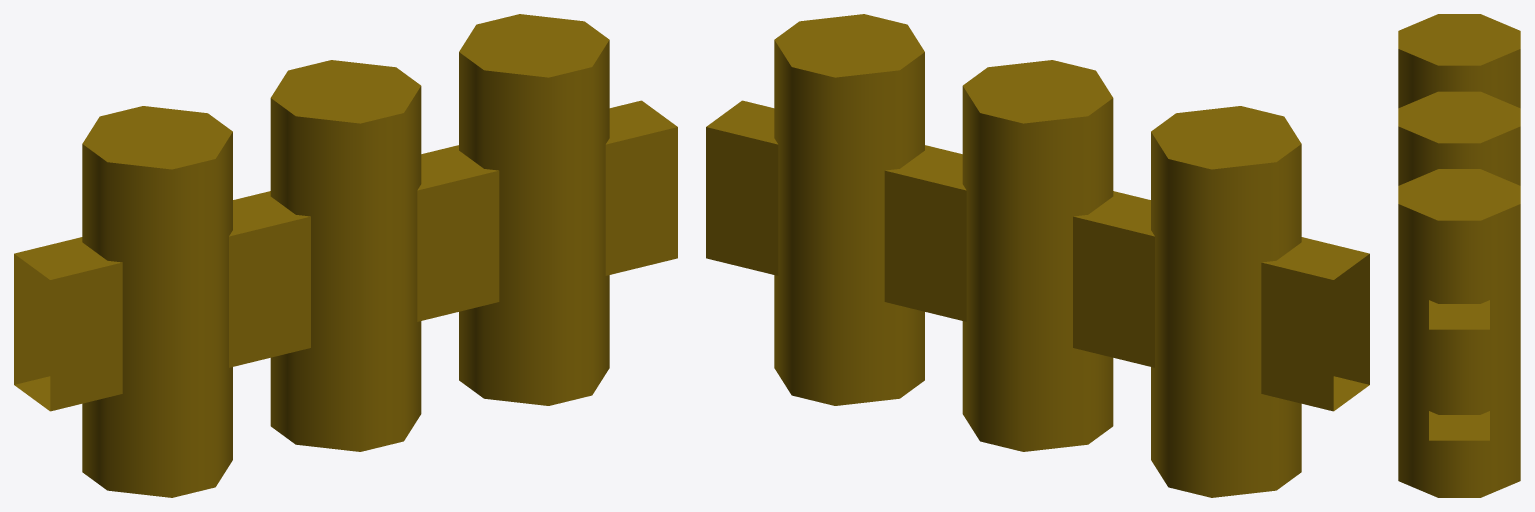
Rendered from pole_fence_01_bar.glb.
3 renders of one model, left to right at view 1: azimuth 30°, elevation 25°; view 2: azimuth 150°, elevation 25°; view 3: azimuth 270°, elevation 25°, orthographic. The views are drawn at different scales.
Visible parts, largest first — view 1: coppice_fence_straight.001; view 2: coppice_fence_straight.001; view 3: coppice_fence_straight.001.
Part boxes in pixels (x1,y1,x2,y2): coppice_fence_straight.001: (14, 14, 677, 497); coppice_fence_straight.001: (706, 14, 1369, 497); coppice_fence_straight.001: (1398, 14, 1520, 497).
Bounding box in the file's own units: 2 × 1 × 0.4.
